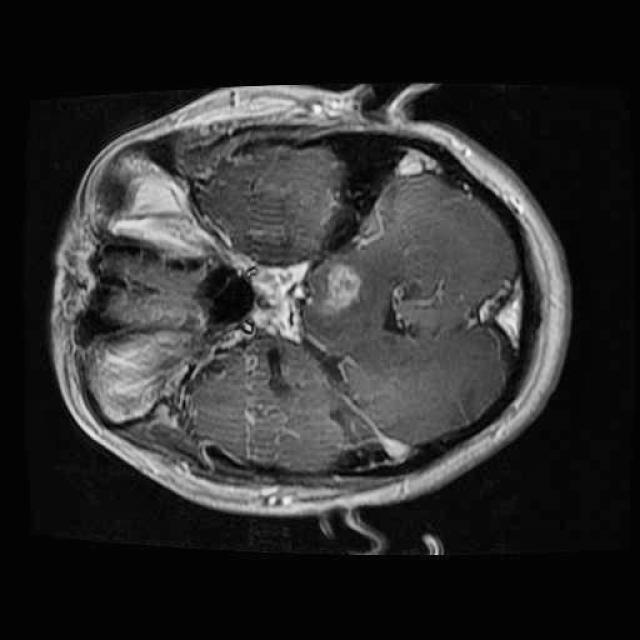Tumor: (306, 250, 375, 326)
